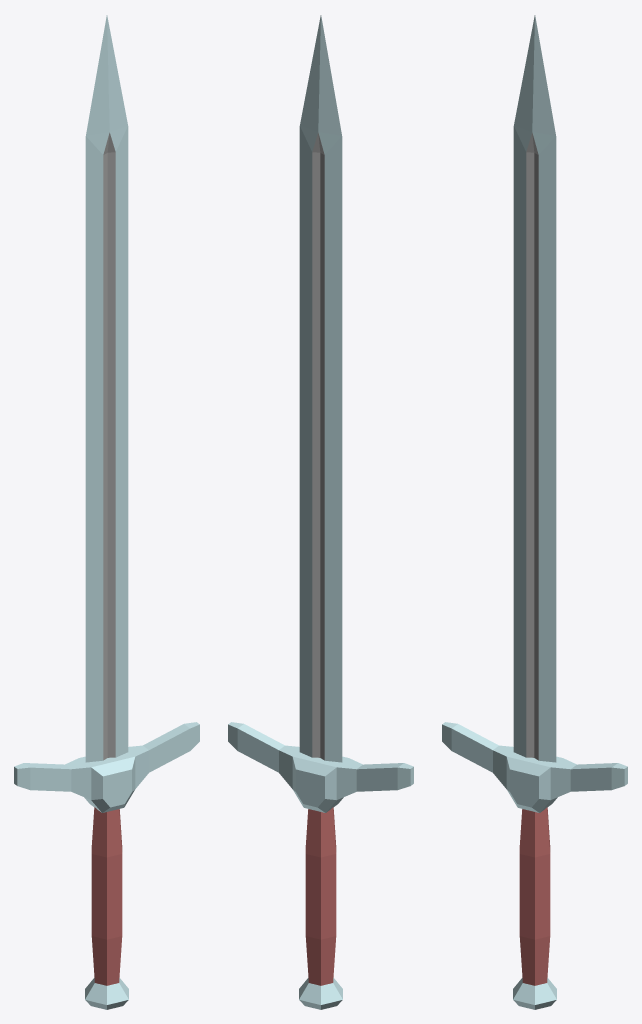
The model's file is sword.glb.
3 views of the same model, side by side, from view 1: azimuth 30°, elevation 25°; view 2: azimuth 150°, elevation 25°; view 3: azimuth 330°, elevation 25° (orthographic).
Visible parts, largest first — view 1: sword; view 2: sword; view 3: sword.
Boxes of the visible parts, left/top/right/bottom form: sword: left=14, top=15, right=199, bottom=1009; sword: left=228, top=15, right=413, bottom=1009; sword: left=442, top=15, right=627, bottom=1009.
Bounding box in the file's own units: 0.344 × 1.78 × 0.072.
1 material, 1 textured.
